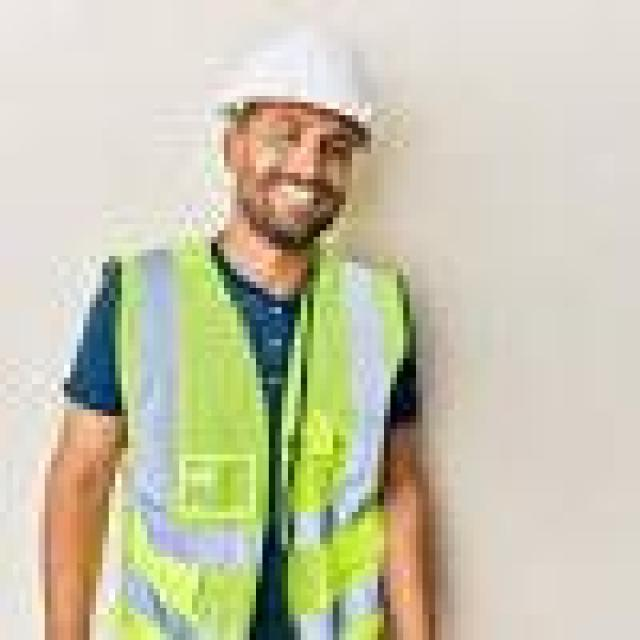Reflective-Jacket: (83, 230, 442, 640)
